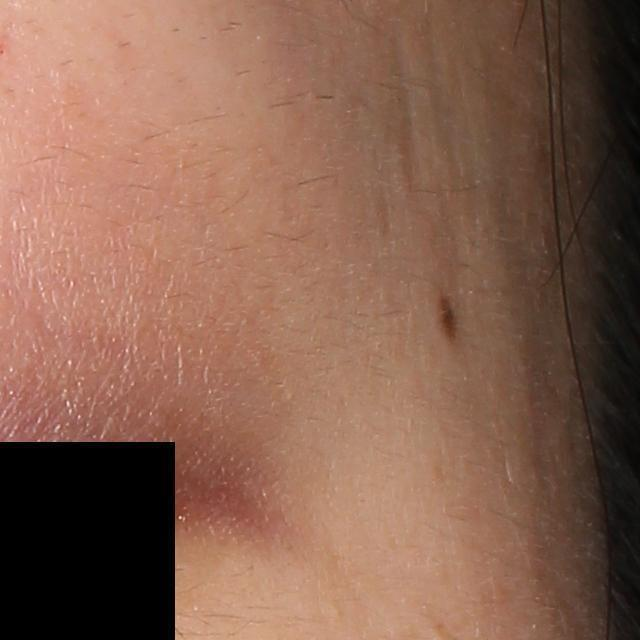nevus: (434, 290, 462, 343)
